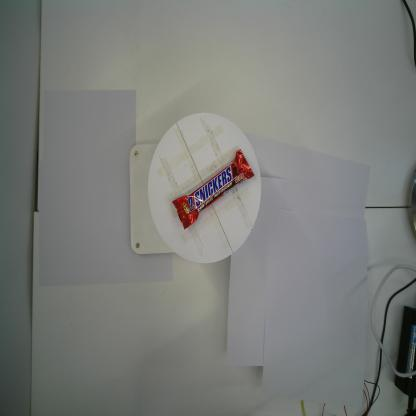Chocolate: (171, 148, 255, 230)
